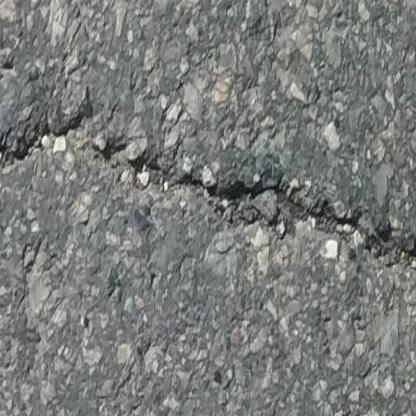Cracks: (0, 110, 416, 272)
